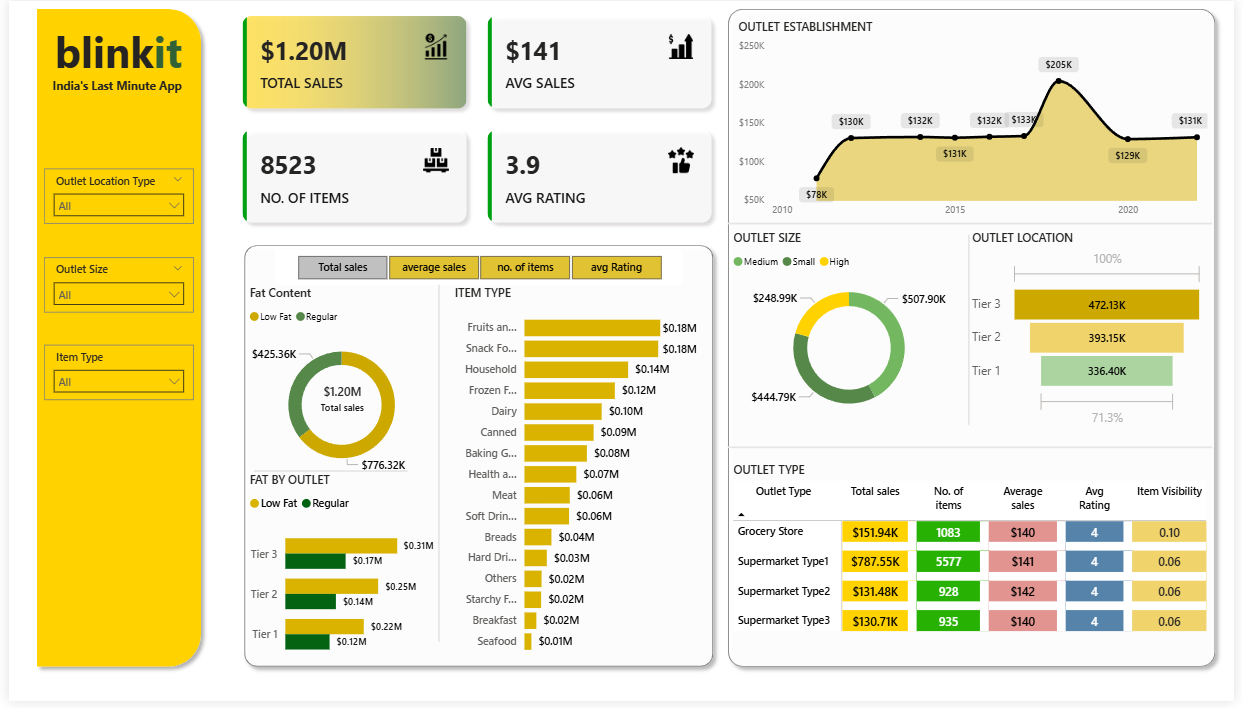

The dashboard page shown, as its layout file describes it:
{"tool":"powerbi","page":{"name":"Page 1","canvas":[1400,800],"ordinal":0},"visuals":[{"type":"shape","box":[22.5,0,205.6,769.9],"z":0},{"type":"textbox","box":[45,19.5,159.1,78],"z":1000},{"type":"textbox","box":[36,82.5,175.6,30],"z":2000},{"type":"cardVisual","fields":{"Data":["BlinkIT Grocery Data.Total sales","BlinkIT Grocery Data.average sales","BlinkIT Grocery Data.no. of items","BlinkIT Grocery Data.avg Rating"]},"box":[250.6,0,570.3,270.2],"z":3000},{"type":"shape","box":[259.6,270.2,553.8,499.8],"z":4000},{"type":"donutChart","title":"Fat Content","fields":{"Y":["BlinkIT Grocery Data.Total sales"],"Category":["BlinkIT Grocery Data.Item Fat Content"]},"box":[270.2,324.2,220.6,229.6],"z":5000},{"type":"slicer","fields":{"Values":["Metrics.Metrics"]},"box":[304.7,283.7,465.3,40.5],"z":6000},{"type":"cardVisual","fields":{"Data":["BlinkIT Grocery Data.Total sales"]},"box":[331.7,420.2,99.1,66],"z":7000},{"type":"clusteredBarChart","title":"FAT BY OUTLET","fields":{"Y":["BlinkIT Grocery Data.Total sales"],"Category":["BlinkIT Grocery Data.Outlet Location Type"],"Series":["BlinkIT Grocery Data.Item Fat Content"]},"box":[270.2,537.3,220.6,229.6],"z":8000},{"type":"shape","box":[280.7,520.8,175.6,31.5],"z":9000},{"type":"shape","box":[478.8,324.2,25.5,408.2],"z":10000},{"type":"barChart","title":"ITEM TYPE","fields":{"Y":["BlinkIT Grocery Data.Total sales"],"Category":["BlinkIT Grocery Data.Item Type"]},"box":[504.3,324.2,286.7,432.2],"z":11000},{"type":"shape","box":[813.5,0,574.8,769.9],"z":12000},{"type":"lineChart","title":"OUTLET ESTABLISHMENT","fields":{"Y":["BlinkIT Grocery Data.Total sales"],"Category":["BlinkIT Grocery Data.Outlet Establishment Year"]},"box":[828.5,19.5,546.3,235.6],"z":13000},{"type":"shape","box":[821,238.6,553.8,31.5],"z":14000},{"type":"donutChart","title":"OUTLET SIZE","fields":{"Y":["BlinkIT Grocery Data.Total sales"],"Category":["BlinkIT Grocery Data.Outlet Size"]},"box":[822.5,261.2,274.7,225.1],"z":15000},{"type":"shape","box":[1085.1,267.2,22.5,217.6],"z":16000},{"type":"funnel","title":"OUTLET LOCATION","fields":{"Y":["Sum(BlinkIT Grocery Data.Sales)"],"Category":["BlinkIT Grocery Data.Outlet Location Type"]},"box":[1095.6,261.2,274.7,229.6],"z":17000},{"type":"shape","box":[821,493.8,553.8,31.5],"z":18000},{"type":"pivotTable","title":"OUTLET TYPE","fields":{"Rows":["BlinkIT Grocery Data.Outlet Type"],"Values":["BlinkIT Grocery Data.Total sales","BlinkIT Grocery Data.no. of items","BlinkIT Grocery Data.average sales","BlinkIT Grocery Data.avg Rating","Avg(BlinkIT Grocery Data.Item Visibility)"]},"box":[822.5,525.3,553.8,219.1],"z":19000},{"type":"slicer","fields":{"Values":["BlinkIT Grocery Data.Outlet Location Type"]},"box":[40.5,192.1,171.1,63],"z":20000},{"type":"slicer","fields":{"Values":["BlinkIT Grocery Data.Outlet Size"]},"box":[40.5,292.7,171.1,63],"z":21000},{"type":"slicer","fields":{"Values":["BlinkIT Grocery Data.Item Type"]},"box":[40.5,393.2,171.1,63],"z":22000}]}

Visuals, with their boxes in screenshot pixels (x1, y1, x2, y2), scaled from the page's 1400x800 canvas onto the 1242x708 screenshot:
shape: [20, 0, 202, 681]
textbox: [40, 17, 181, 86]
textbox: [32, 73, 188, 100]
cardVisual - BlinkIT Grocery Data.Total sales x BlinkIT Grocery Data.average sales: [222, 0, 728, 239]
shape: [230, 239, 722, 681]
"Fat Content" donutChart: [240, 287, 435, 490]
slicer - Metrics.Metrics: [270, 251, 683, 287]
cardVisual - BlinkIT Grocery Data.Total sales: [294, 372, 382, 430]
"FAT BY OUTLET" clusteredBarChart: [240, 476, 435, 679]
shape: [249, 461, 405, 489]
shape: [425, 287, 447, 648]
"ITEM TYPE" barChart: [447, 287, 702, 669]
shape: [722, 0, 1232, 681]
"OUTLET ESTABLISHMENT" lineChart: [735, 17, 1220, 226]
shape: [728, 211, 1220, 239]
"OUTLET SIZE" donutChart: [730, 231, 973, 430]
shape: [963, 236, 983, 429]
"OUTLET LOCATION" funnel: [972, 231, 1216, 434]
shape: [728, 437, 1220, 465]
"OUTLET TYPE" pivotTable: [730, 465, 1221, 659]
slicer - BlinkIT Grocery Data.Outlet Location Type: [36, 170, 188, 226]
slicer - BlinkIT Grocery Data.Outlet Size: [36, 259, 188, 315]
slicer - BlinkIT Grocery Data.Item Type: [36, 348, 188, 404]
